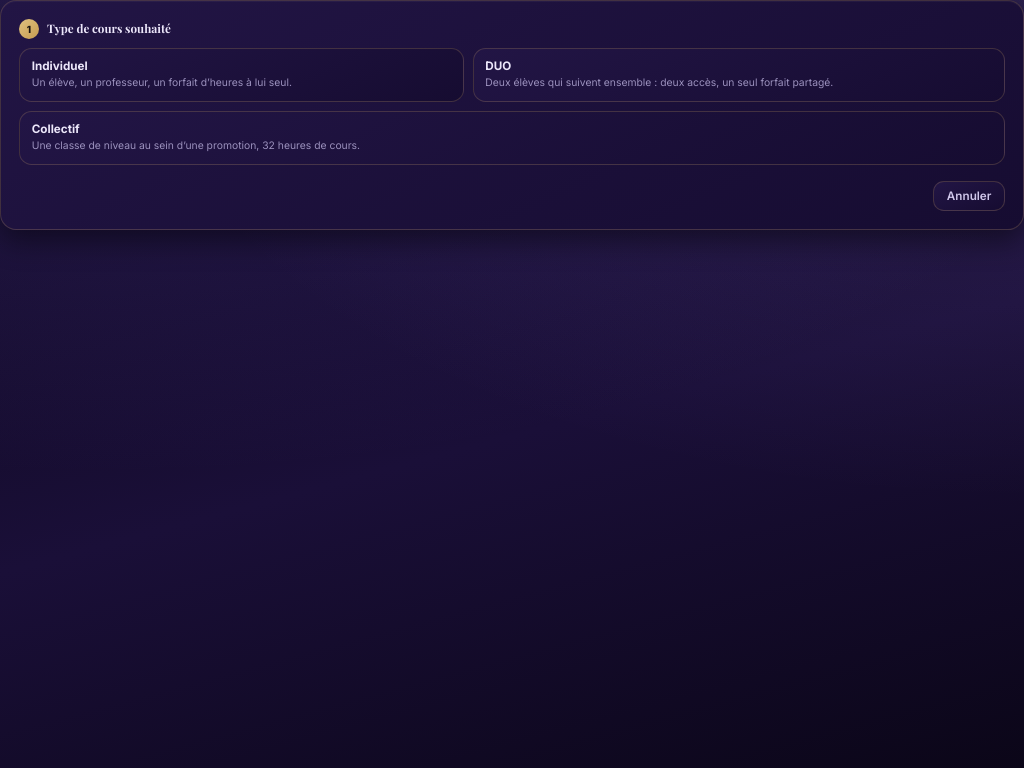
Scenario: AssistantNouvelEtudiant › n’ouvre l’étape 3 qu’une fois l’étape 2 complétée puis validée
Step 1. Click the text "Individuel" → (60, 66), box [32, 59, 88, 73]
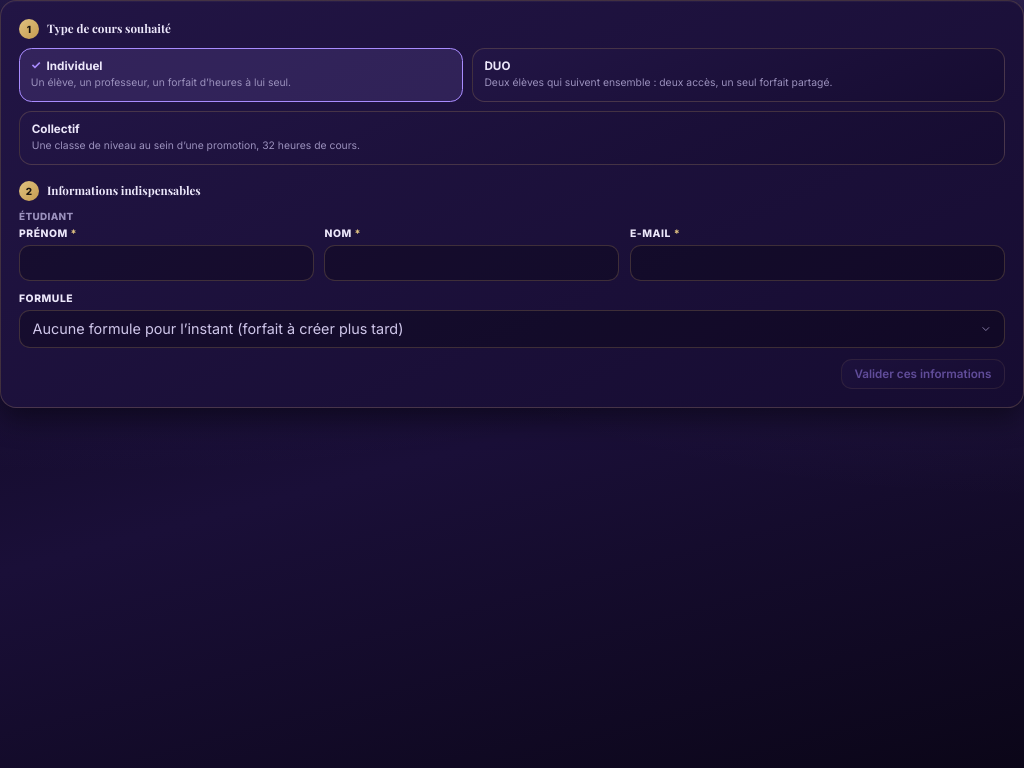
Now the button "Valider ces informations" is disabled, box [841, 359, 1005, 390]
Step 2. Type "Anaïs" into the field labelled "Prénom *" → (166, 263), box [19, 244, 314, 281]
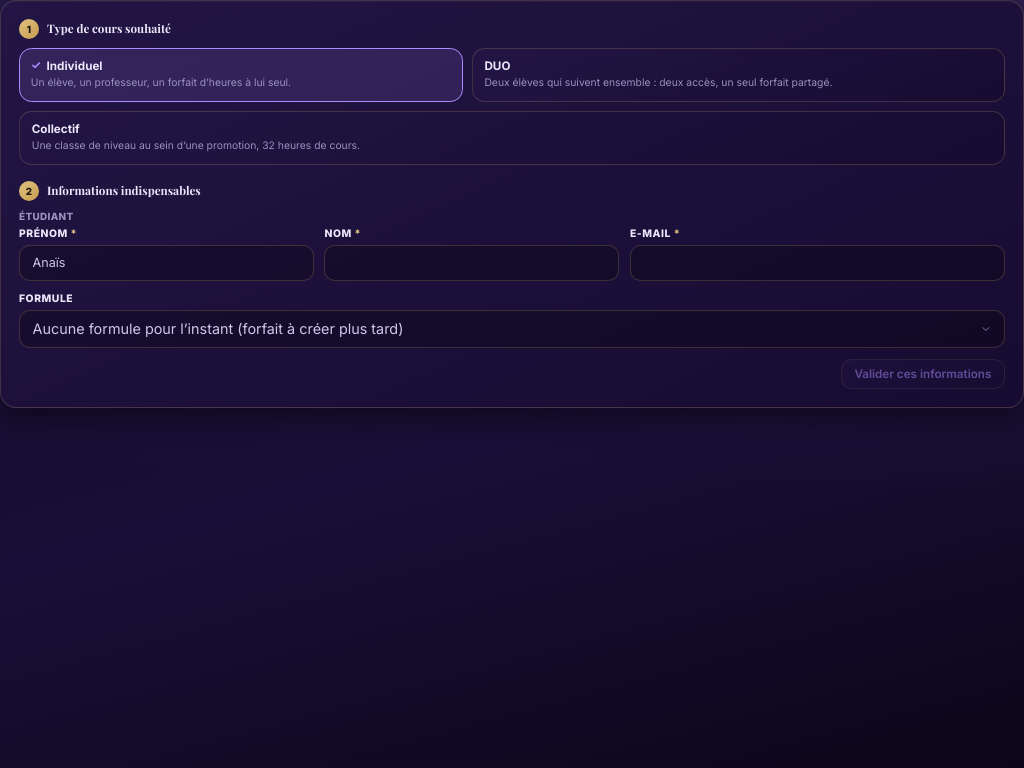
Step 3. Type "RASOA" into the field labelled "Nom *" → (472, 263), box [324, 244, 619, 281]
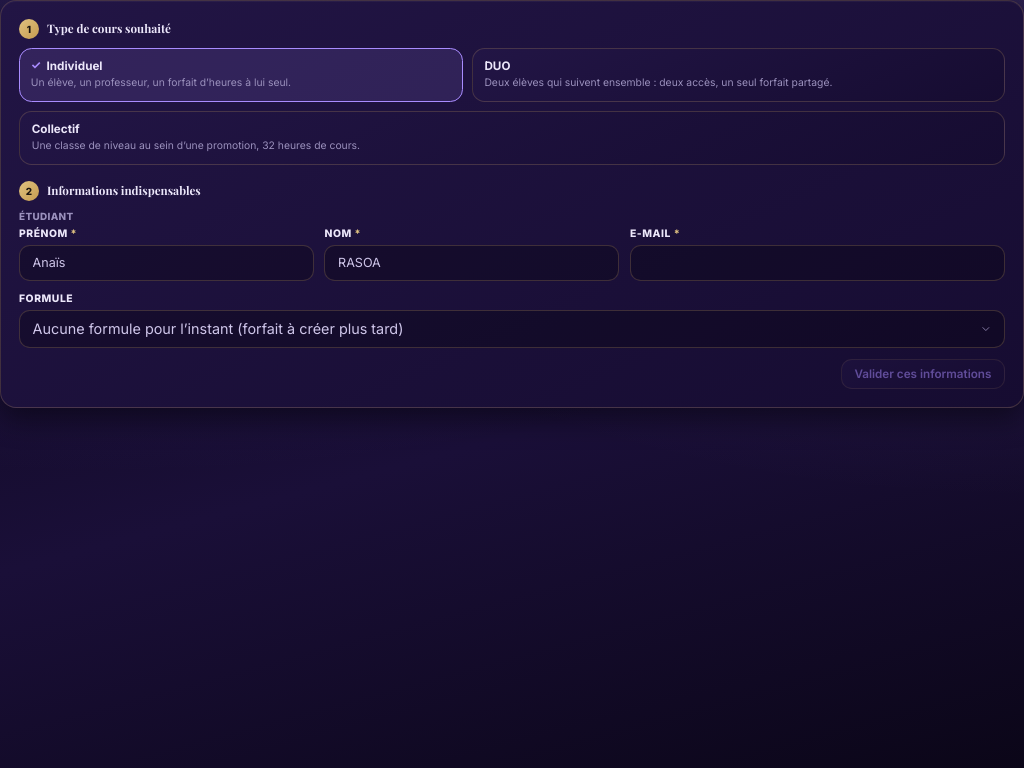
Step 4. Type "anais@exemple.test" into the field labelled "E-mail *" → (817, 263), box [630, 244, 1005, 281]
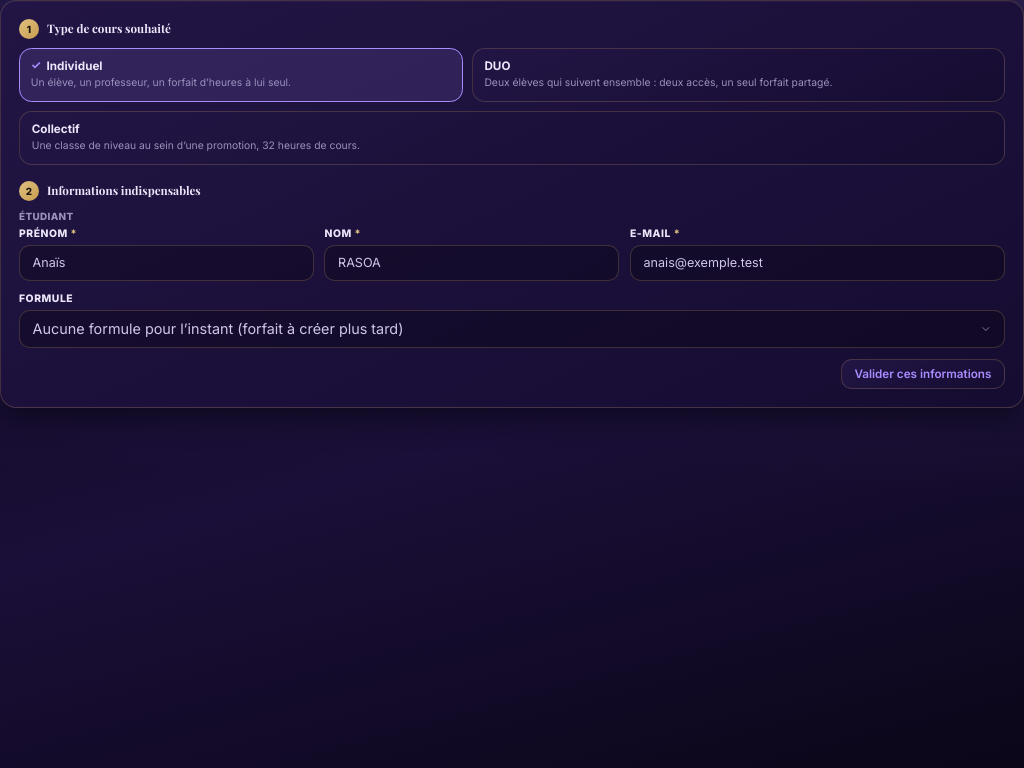
Expected: the text "Espace personnel et dossier" is not shown
Now the button "Valider ces informations" is enabled
Step 5. Click the button "Valider ces informations" → (923, 374), box [841, 359, 1005, 390]
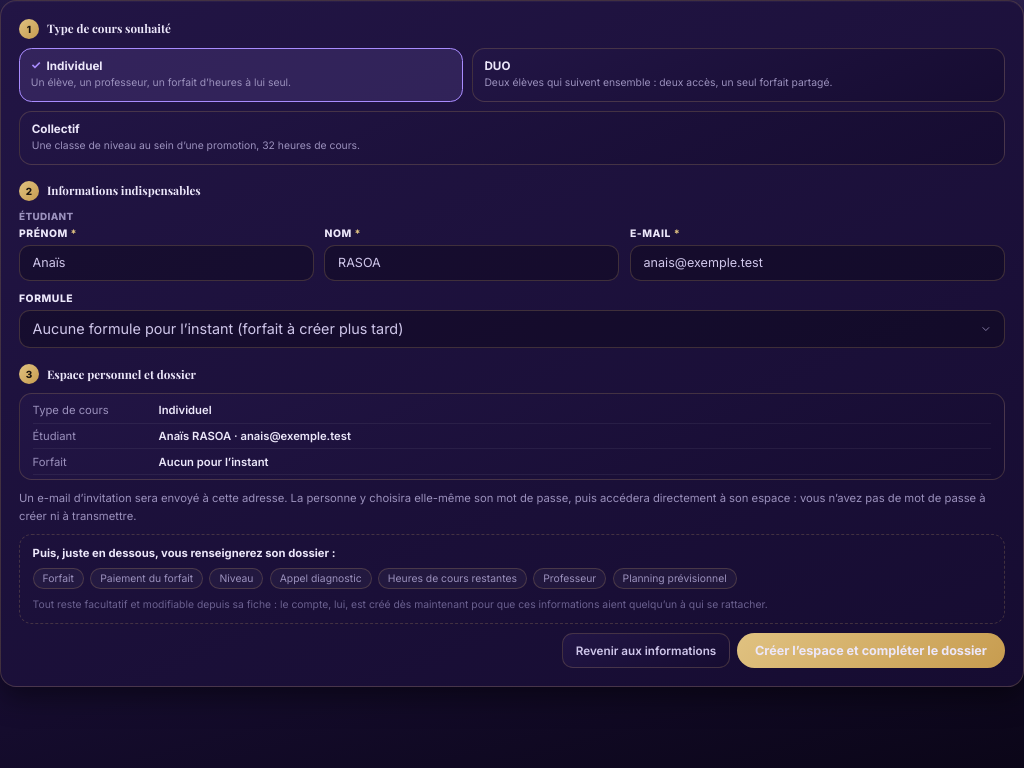
Now the heading "Espace personnel et dossier" is shown, box [47, 368, 196, 381]
Now the text "anais@exemple.test" is shown, box [159, 429, 351, 443]
